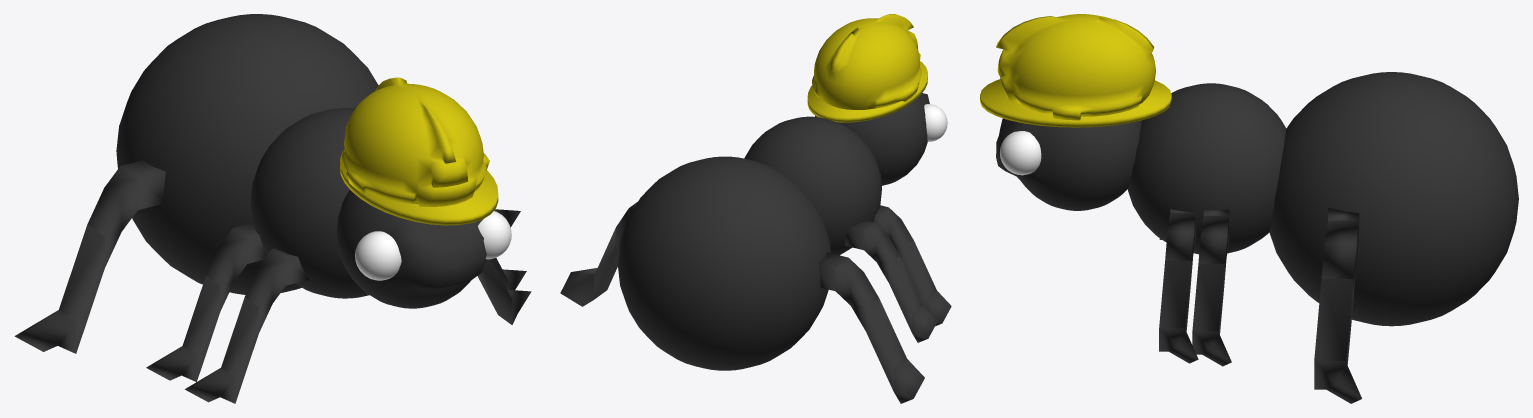
Rendered from base_fourmi_noire_contremaitre.dae.
The picture shows the model from 3 angles, left to right: view 1: azimuth 30°, elevation 25°; view 2: azimuth 150°, elevation 25°; view 3: azimuth 270°, elevation 25°; orthographic projection. The views are drawn at different scales.
Visible parts, largest first — view 1: Cube_003, Sphere; view 2: Cube_003, Sphere; view 3: Cube_003, Sphere.
Boxes of the visible parts, box(x1,y1,x2,y2) form: Cube_003: box(14, 14, 531, 403); Sphere: box(340, 77, 498, 225); Cube_003: box(560, 93, 951, 403); Sphere: box(807, 14, 927, 122); Cube_003: box(996, 72, 1518, 403); Sphere: box(980, 14, 1171, 127).
Bounding box in the file's own units: 2.99 × 3.23 × 1.98.
